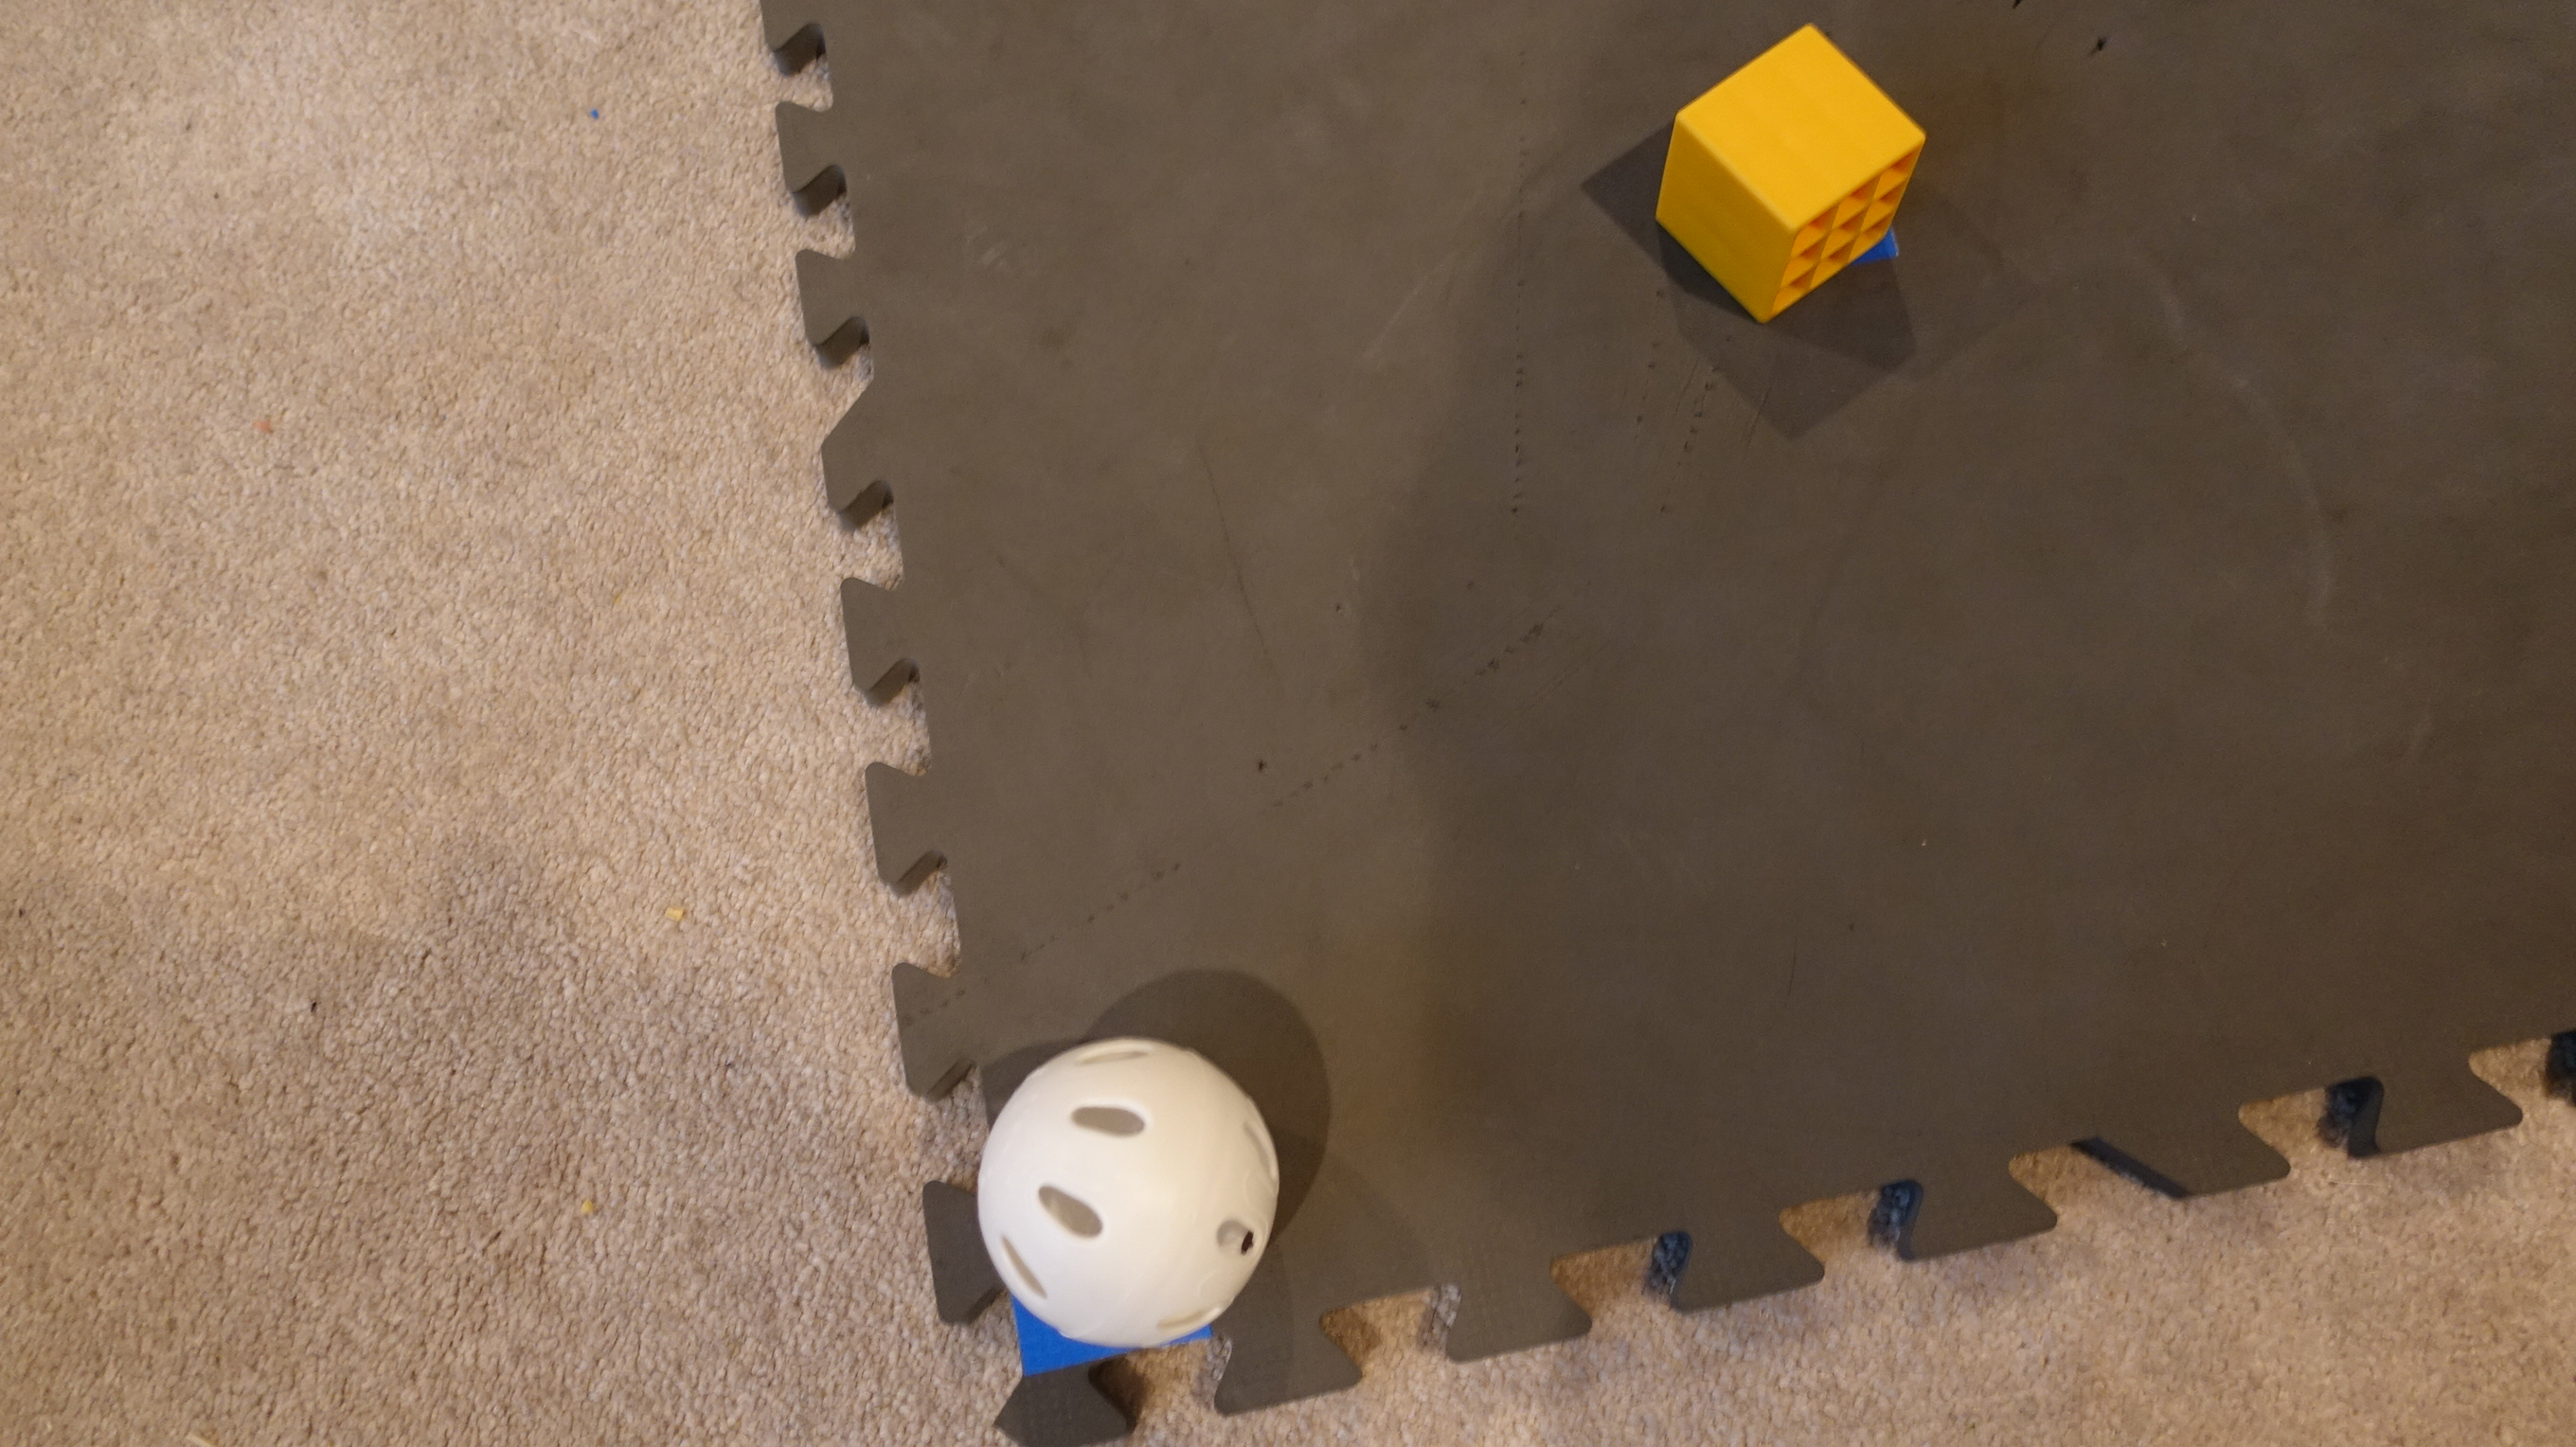gold: (971, 1030, 1281, 1353), (1654, 25, 1936, 324)
